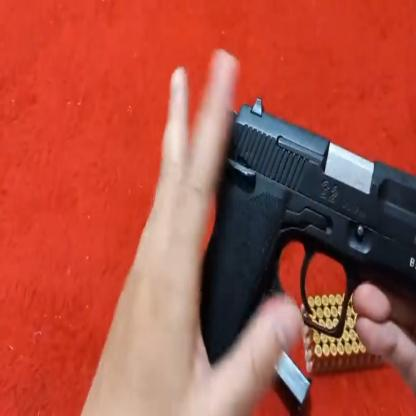handgun: (210, 106, 416, 315)
